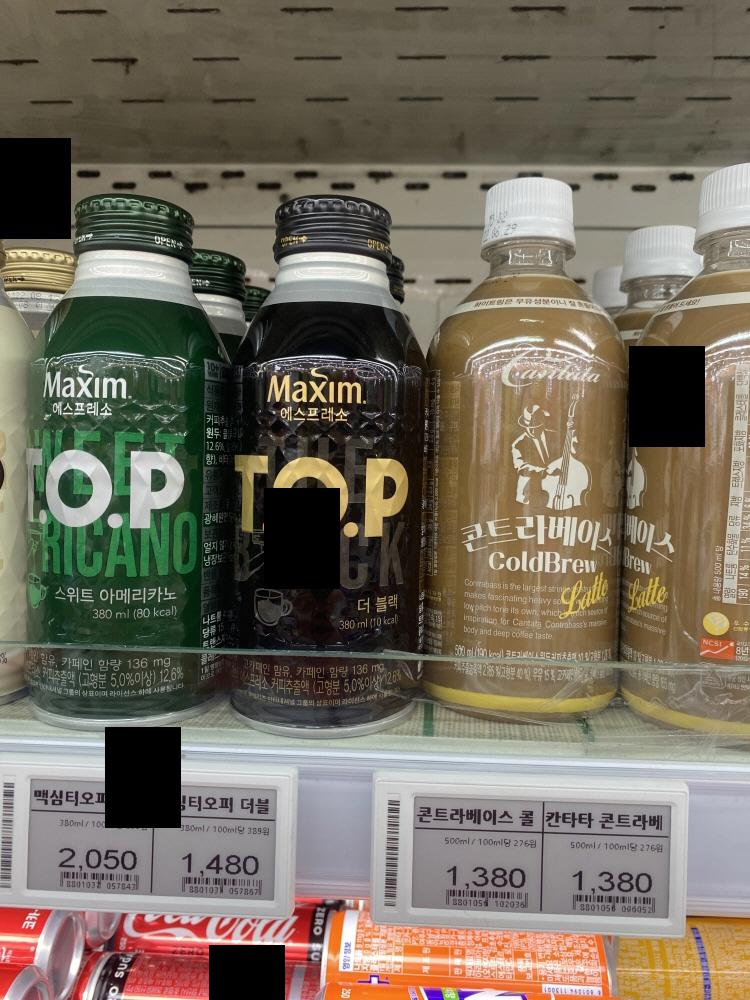TOP_black: (219, 194, 434, 728)
